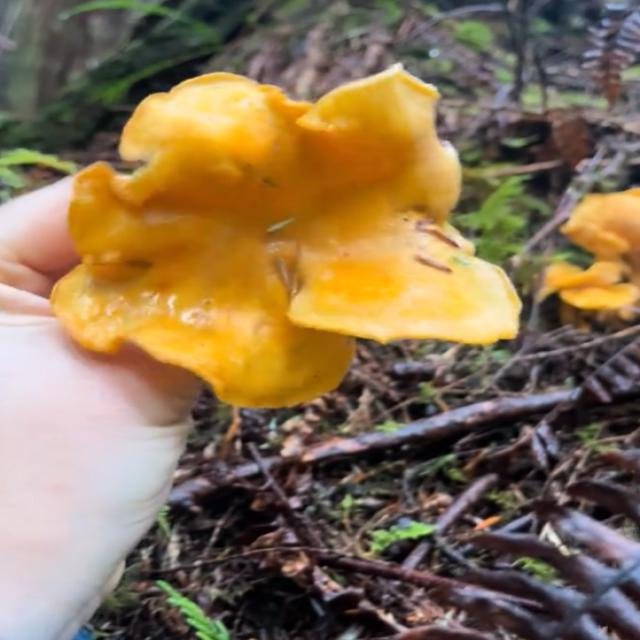chanterelle: (49, 66, 523, 412)
